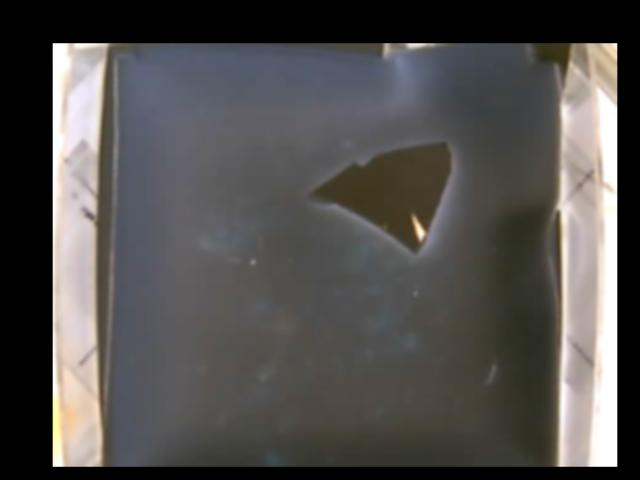China: (309, 137, 453, 254)
